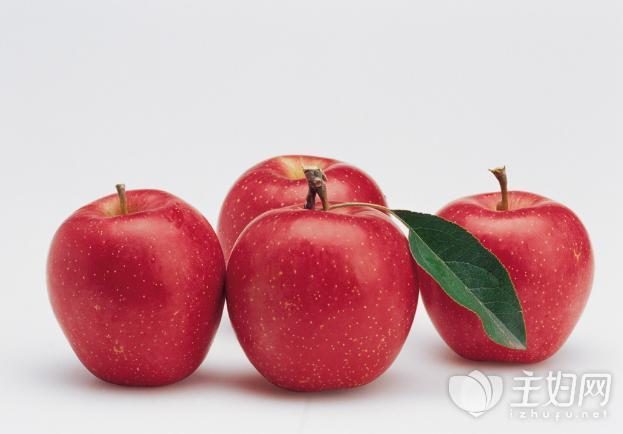apple: (42, 183, 226, 387), (222, 203, 421, 390), (421, 182, 592, 365)
